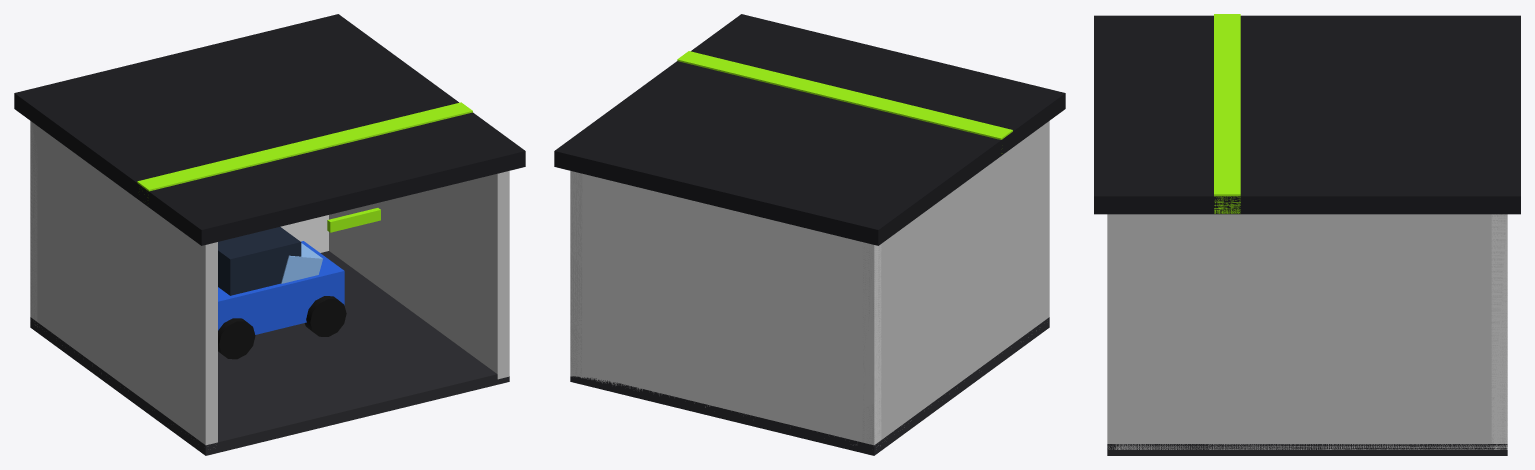
The model's file is dealership.glb.
The picture shows the model from 3 angles, left to right: view 1: azimuth 30°, elevation 25°; view 2: azimuth 150°, elevation 25°; view 3: azimuth 270°, elevation 25°; orthographic projection. The views are drawn at different scales.
Parts seen in each view (by area): view 1: dealership; view 2: dealership; view 3: dealership.
Boxes of the visible parts, x1,y1,x2,y2 form: dealership: [14, 14, 525, 455]; dealership: [554, 14, 1065, 455]; dealership: [1094, 14, 1520, 455].
Size of the model in its own units: 3.2 by 2.21 by 3.2.
